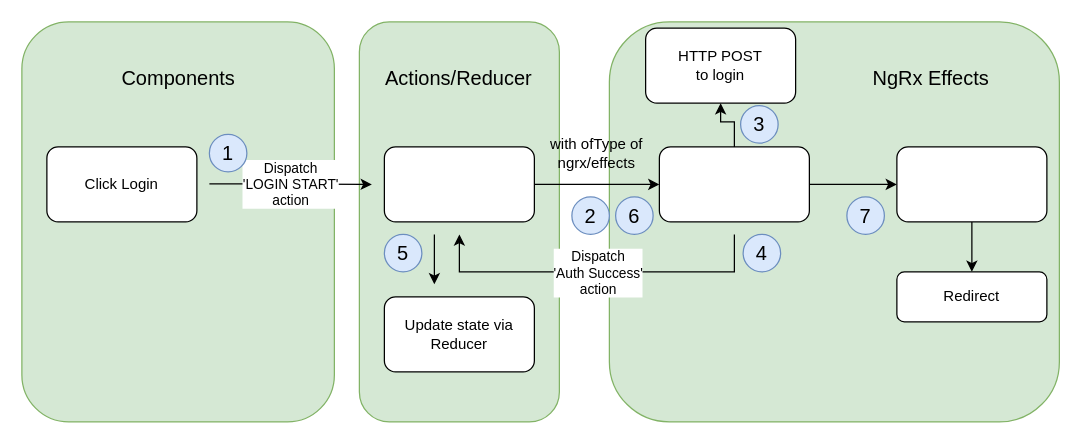
Image size: 1081x444. Some labels were removed from this diagram. The box of each missing label's shape, as (x1, y1, x2, y2) in pixels:
Auth Actions: (383, 146, 534, 222)
Auth NgRx Effects: (658, 146, 809, 222)
Store JWT and User Data on localStorage: (896, 146, 1047, 222)
